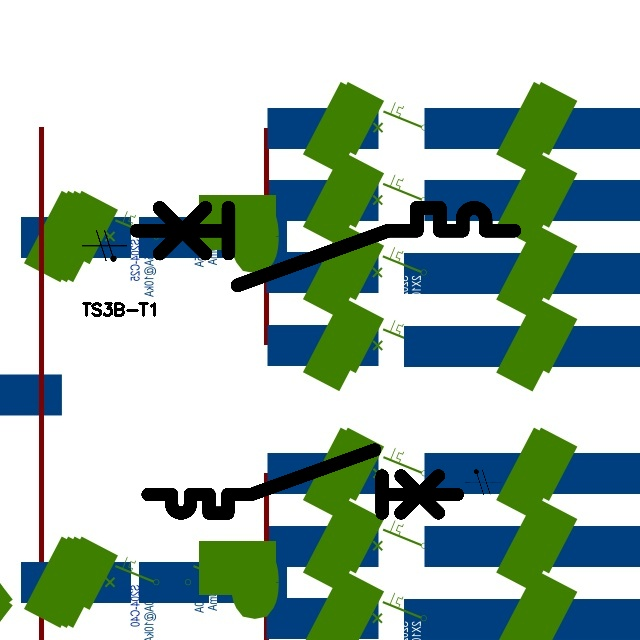interruptor_termomagnetico: (126, 198, 523, 295), (140, 442, 465, 521)
